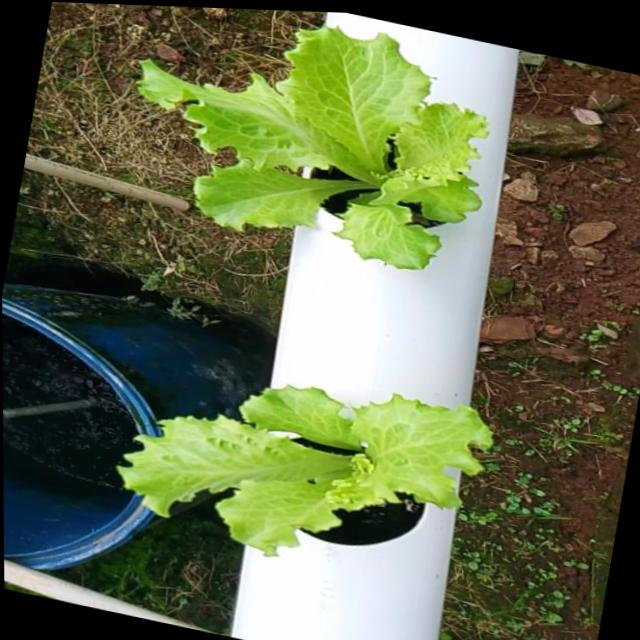Baby: (135, 26, 488, 270), (114, 389, 490, 561)
